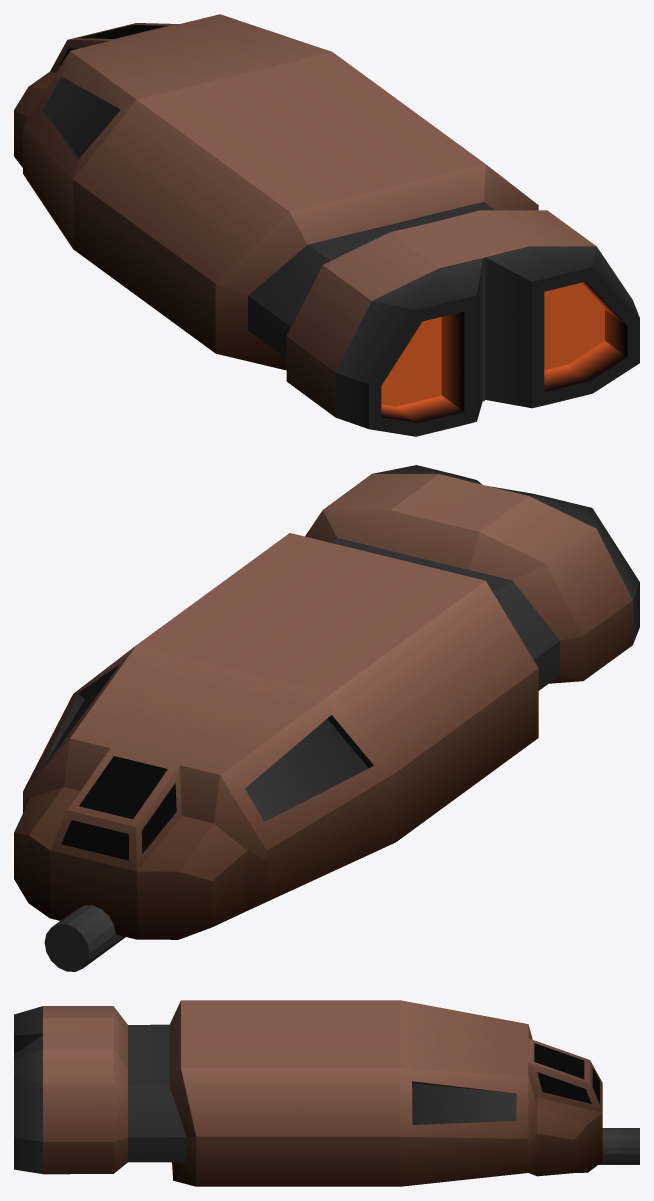
Rendered from interceptor.glb.
3 views of the same model, one above another, from view 1: azimuth 30°, elevation 25°; view 2: azimuth 150°, elevation 25°; view 3: azimuth 270°, elevation 25° (orthographic). The views are drawn at different scales.
Parts seen in each view (by area): view 1: Hull; view 2: Hull, Gun; view 3: Hull, Gun.
Part boxes in pixels (x1=…): Hull: x1=14, y1=14, x2=639, y2=436; Hull: x1=14, y1=465, x2=639, y2=939; Gun: x1=44, y1=905, x2=125, y2=971; Hull: x1=14, y1=1000, x2=602, y2=1186; Gun: x1=598, y1=1128, x2=639, y2=1164.
Size of what is drawn, in the model's own units: 3.23 by 1.74 by 7.59.
1 material, 1 textured.
